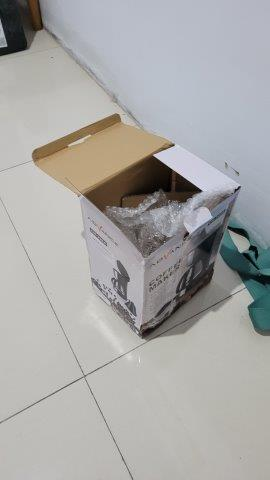kardus: (33, 114, 240, 336)
